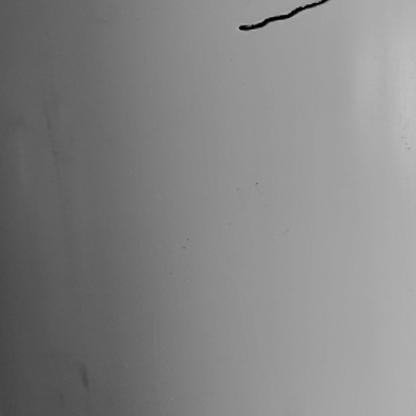fengxi: (236, 1, 331, 31)
